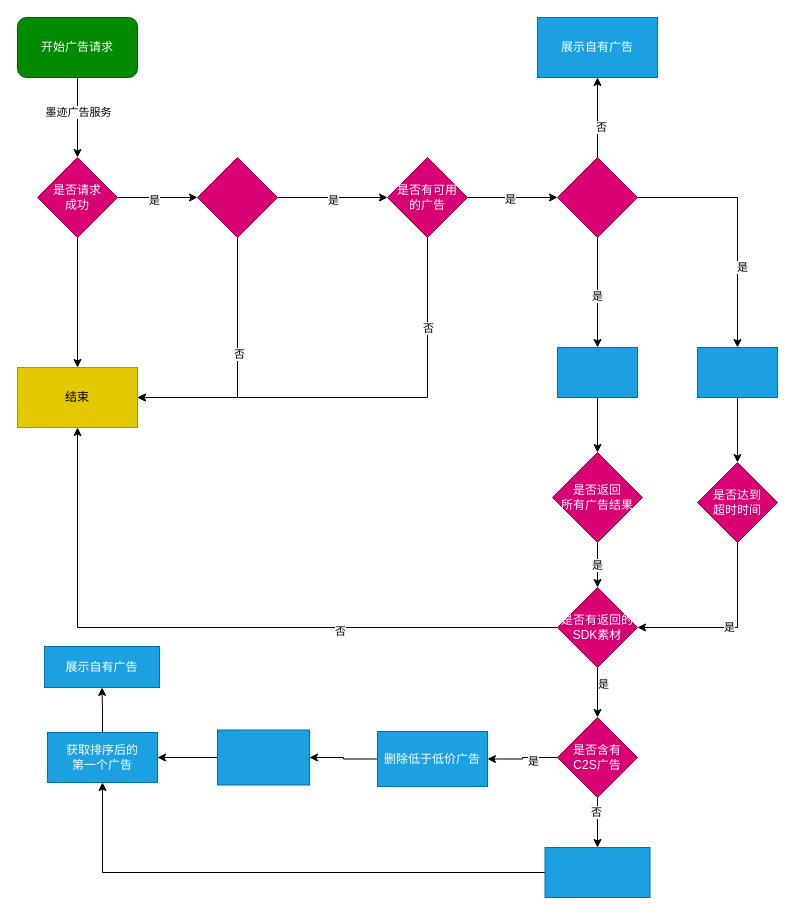
This 795x915 diagram has some shape labels left out. The shapes that lost their labels are listed below. From the top down, each one's box as (x1, y1, x2, y2) in pixels, then its label:
(196, 156, 278, 238): 是否有投放
(556, 156, 638, 238): 是否含有 SDK广告
(556, 346, 638, 398): 并行发起 SDK请求
(696, 346, 778, 398): 开启总超时计时器
(216, 729, 310, 785): 先判断prioprity,如果相同则价高者优先
(544, 846, 650, 898): 按prioprity的 优先级排序
